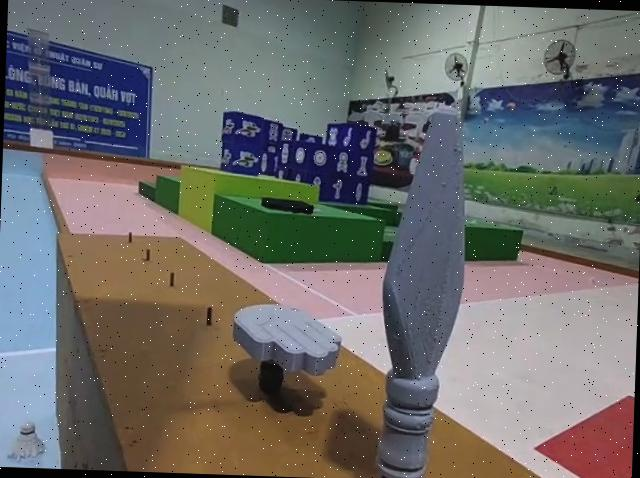Hand: (233, 300, 345, 396)
Sph: (373, 106, 471, 478)
